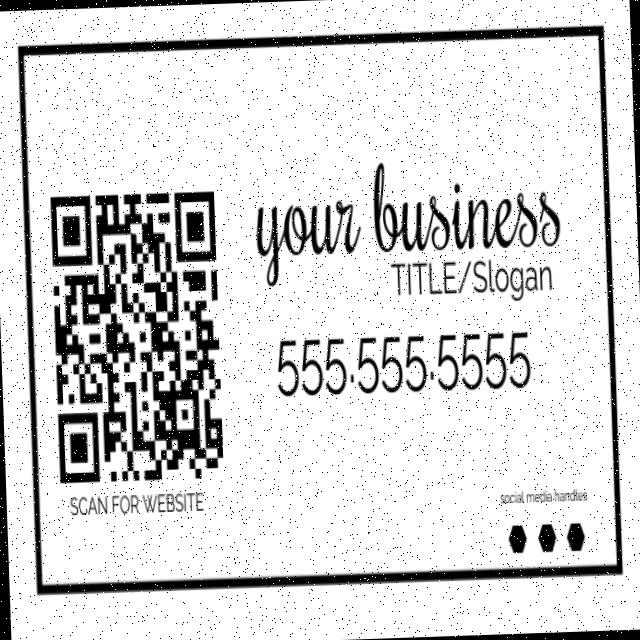QR-codes: (49, 187, 224, 486)
